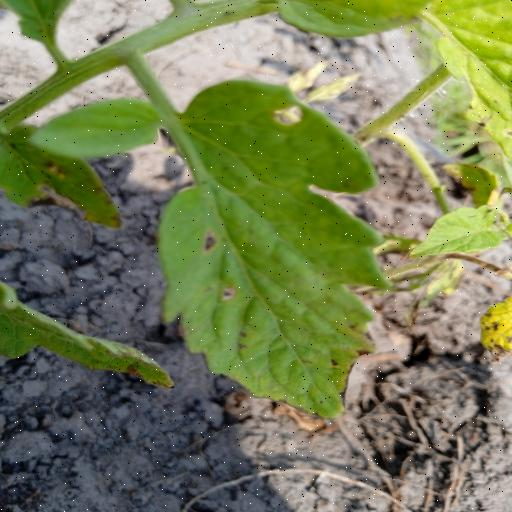Tomato_Brown_Spots: (32, 73, 393, 423)
